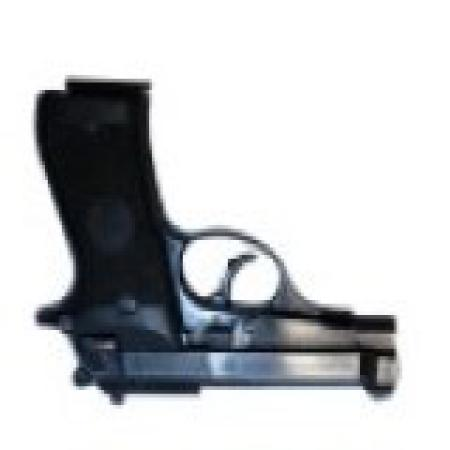Pistol: (29, 71, 400, 420)
